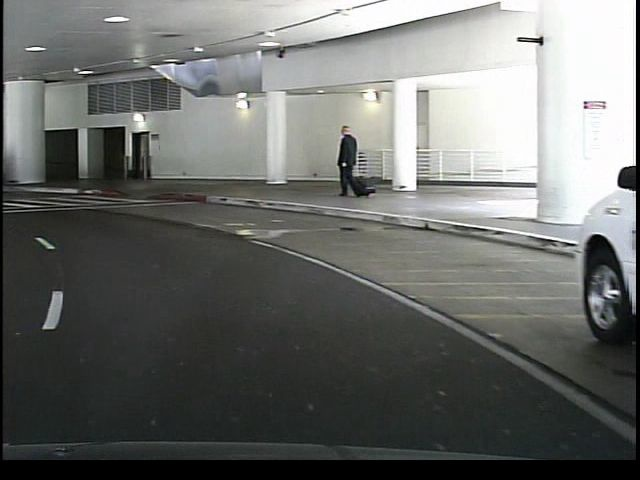person: (328, 123, 361, 201)
